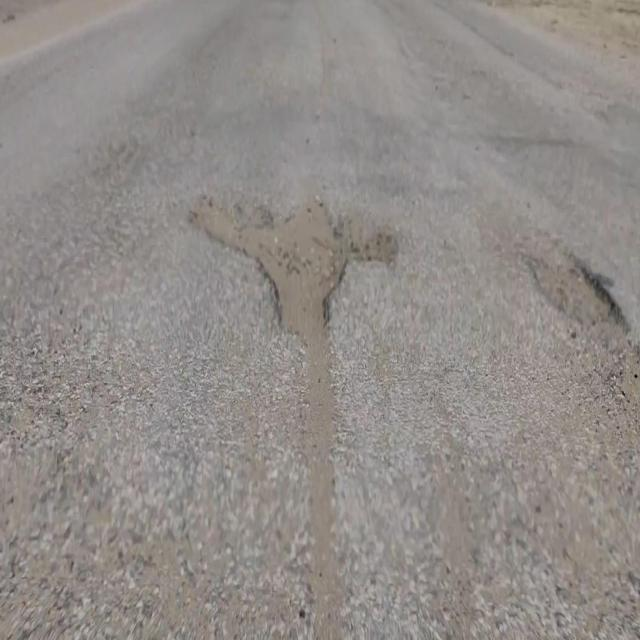Potholes: (189, 189, 402, 345), (527, 259, 619, 329)
